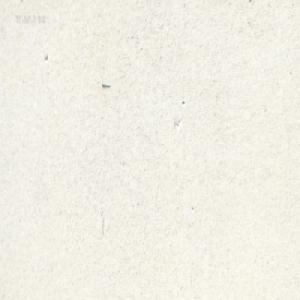Nail: (100, 81, 110, 87)
